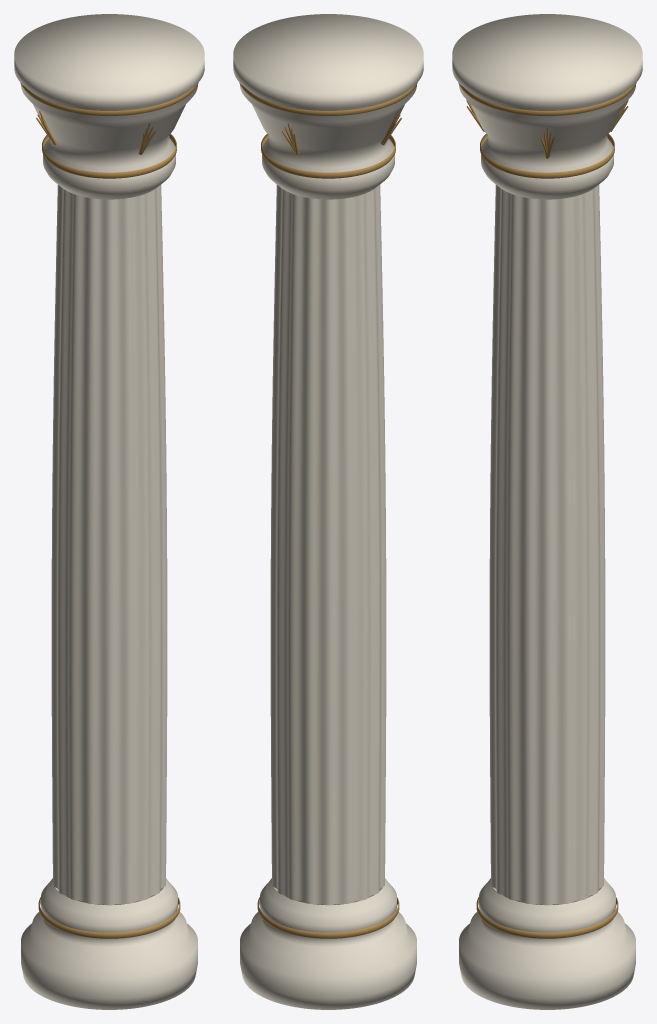
File: ColumnLOD0.fbx
3 views of the same model, side by side, from view 1: azimuth 30°, elevation 25°; view 2: azimuth 150°, elevation 25°; view 3: azimuth 270°, elevation 25° (orthographic).
Visible parts, largest first — view 1: Column; view 2: Column; view 3: Column.
Part boxes in pixels (x1,y1,x2,y2): Column: (14,14,204,1009); Column: (233,14,423,1009); Column: (452,14,642,1009).
Size of the model in its own units: 86 by 458 by 86.
